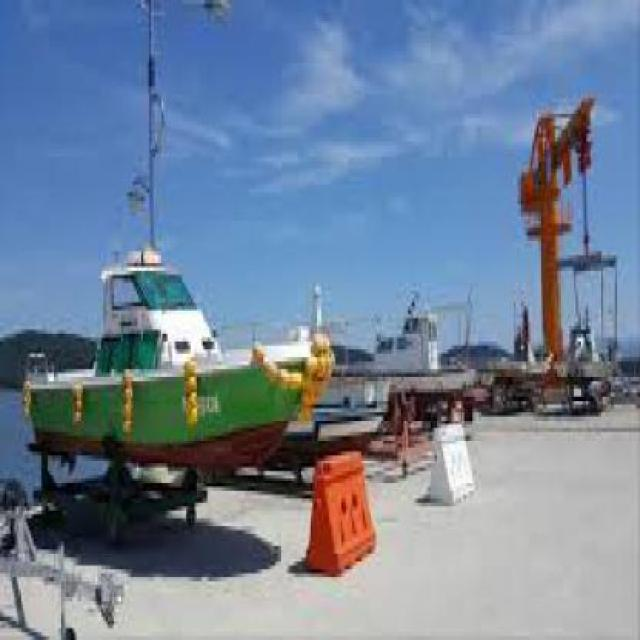fish-b: (12, 233, 338, 496)
